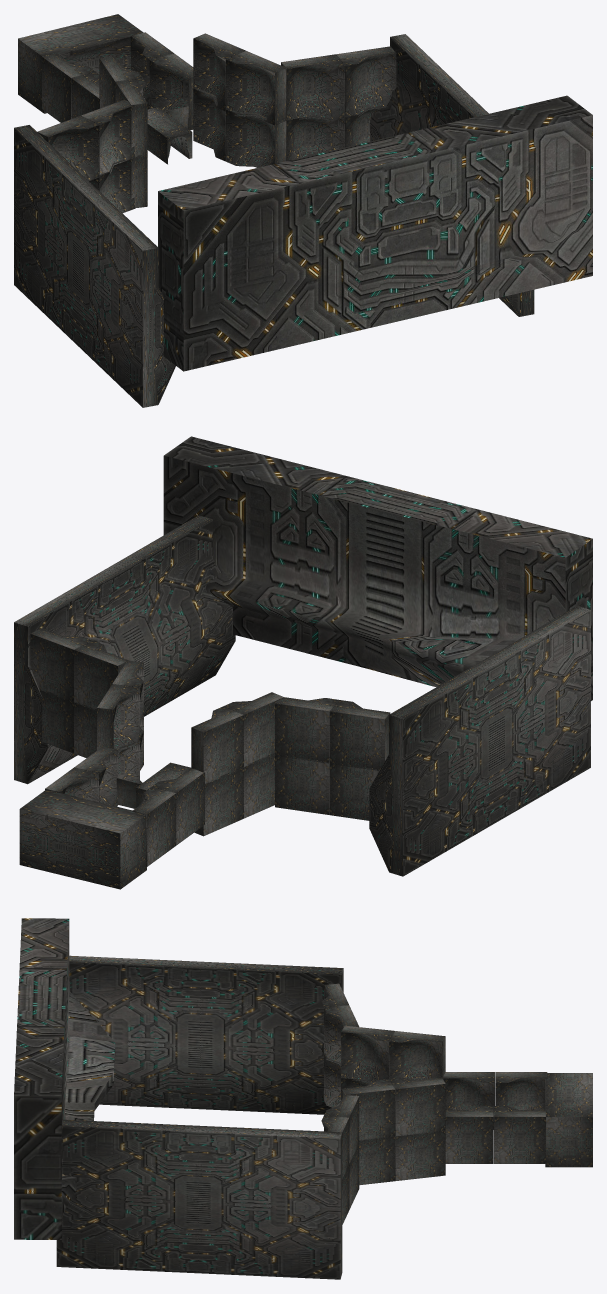
Rendered from Paredes.FBX.
3 views of the same model, one above another, from view 1: azimuth 30°, elevation 25°; view 2: azimuth 150°, elevation 25°; view 3: azimuth 270°, elevation 25° (orthographic). The views are drawn at different scales.
Parts seen in each view (by area): view 1: Pared; view 2: Pared; view 3: Pared.
Boxes of the visible parts, left/top/right/bottom form: Pared: left=14, top=14, right=592, bottom=407; Pared: left=14, top=436, right=592, bottom=889; Pared: left=14, top=918, right=592, bottom=1279.
Bounding box in the file's own units: 3342 × 1562 × 4394.
Materials: 2 (2 with a texture image).
